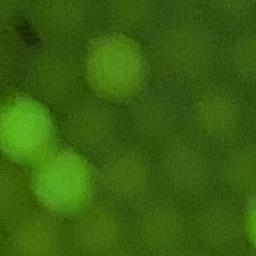negative: (149, 22, 219, 94), (92, 146, 161, 209), (57, 96, 128, 156), (27, 43, 88, 108), (154, 139, 215, 197), (187, 89, 244, 150), (28, 0, 98, 48), (135, 201, 196, 256), (125, 90, 186, 144), (190, 199, 246, 256), (66, 204, 126, 256), (12, 210, 68, 256), (0, 20, 33, 93), (0, 156, 30, 236), (98, 1, 164, 36), (220, 29, 256, 90), (218, 136, 256, 193), (205, 0, 256, 35), (162, 0, 208, 29), (0, 0, 37, 20), (0, 224, 16, 252)
positive: (77, 29, 153, 105), (30, 148, 99, 220), (0, 91, 58, 165), (236, 187, 256, 244)
